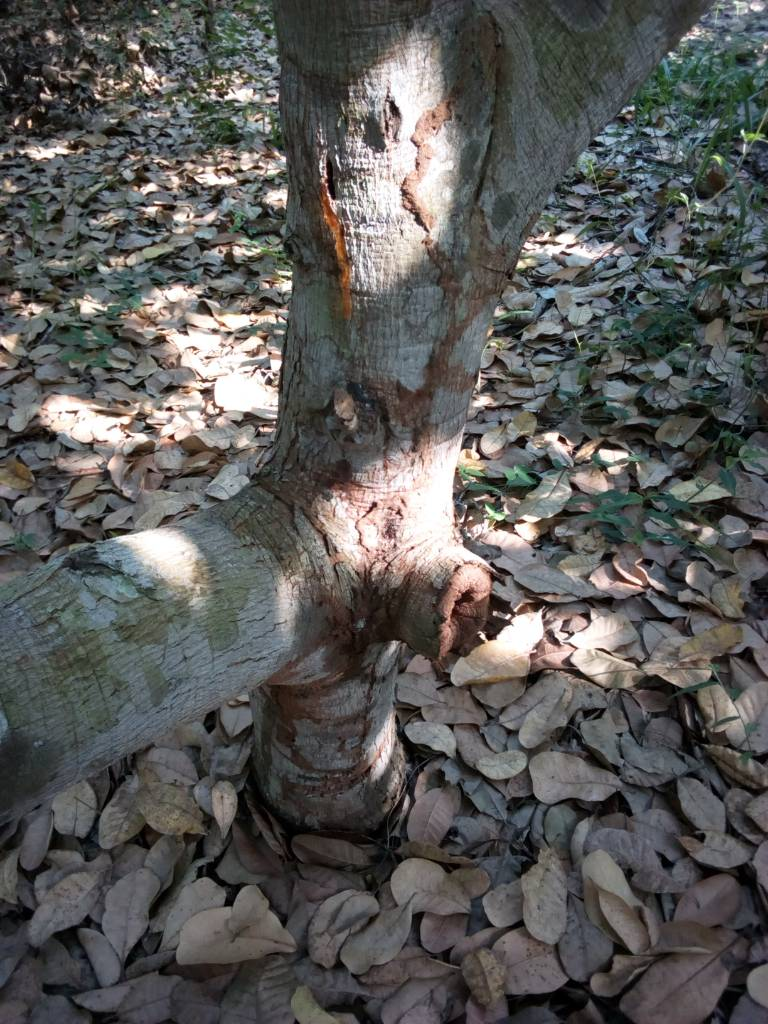Termites: (405, 88, 499, 469)
